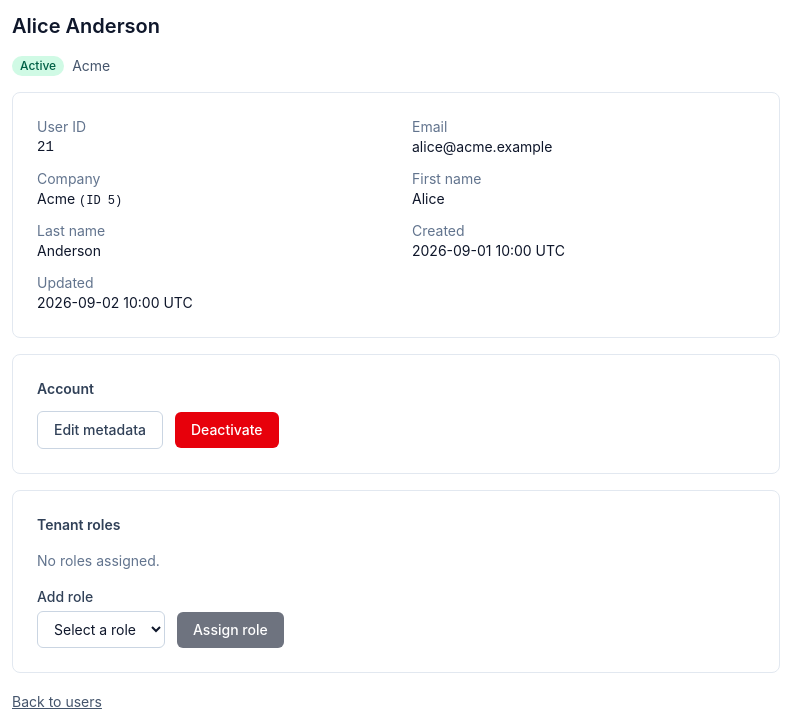
Test case: AdminUserDetailPage › assigns a tenant role
Expected: the heading "Alice Anderson" is shown, x1=12 y1=14 x2=160 y2=38
Select "Manager A" in the dropdown labelled "Add role": (101, 630) x1=37 y1=611 x2=165 y2=648
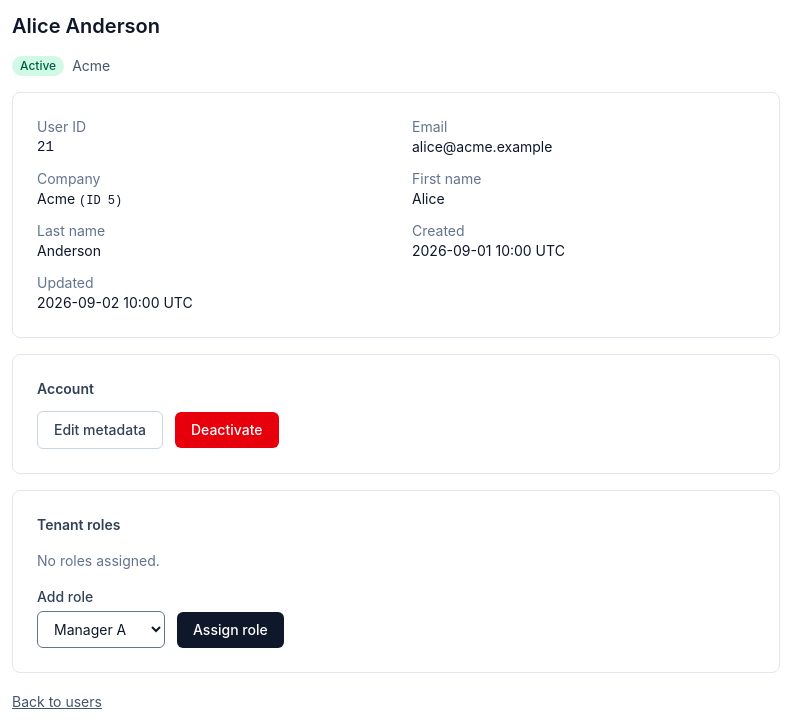
Click the button "Assign role": (230, 630) x1=177 y1=612 x2=284 y2=648
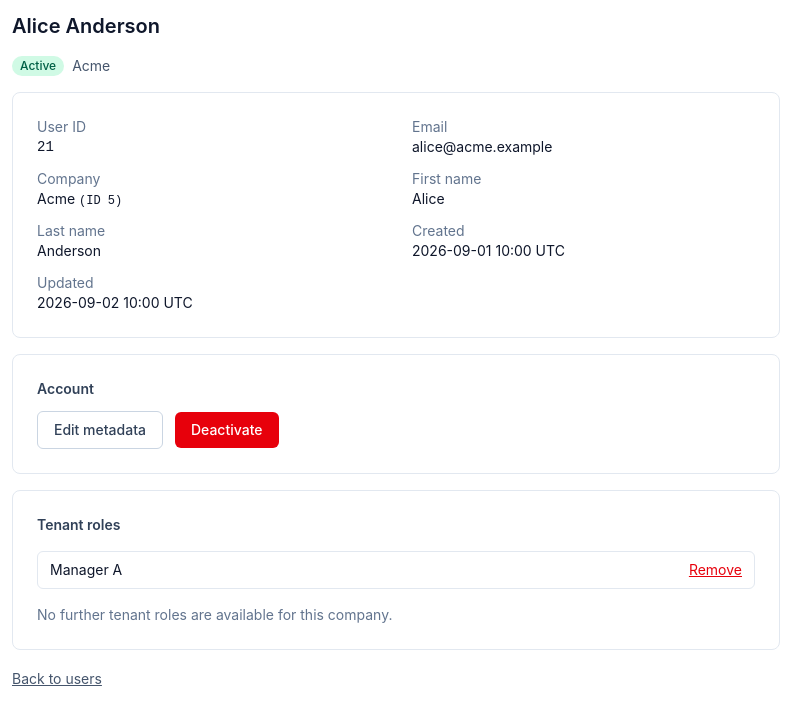
Now the text "No roles assigned." is gone
Now the text "Manager A" is shown, box x1=50 y1=560 x2=122 y2=580
